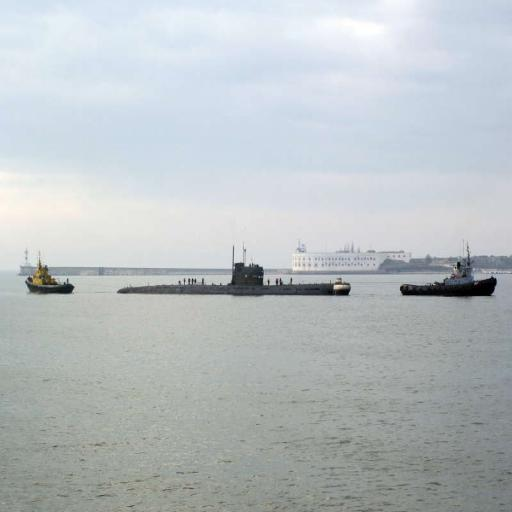submarine: (118, 243, 351, 294)
